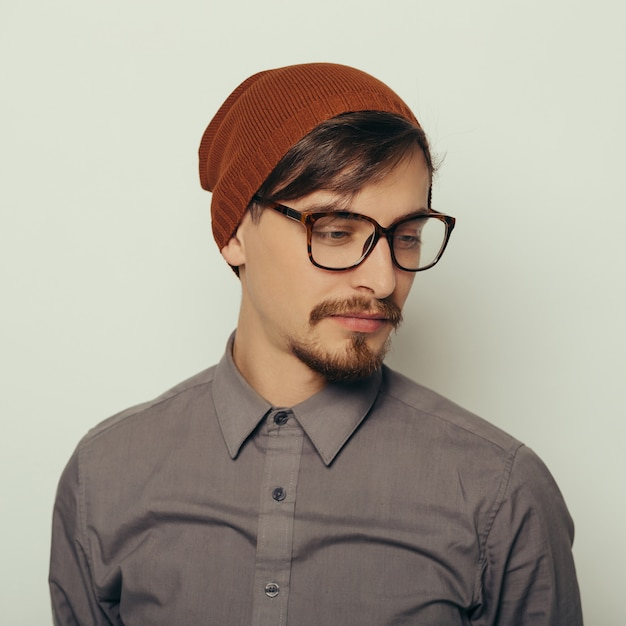young: (200, 55, 463, 380)
